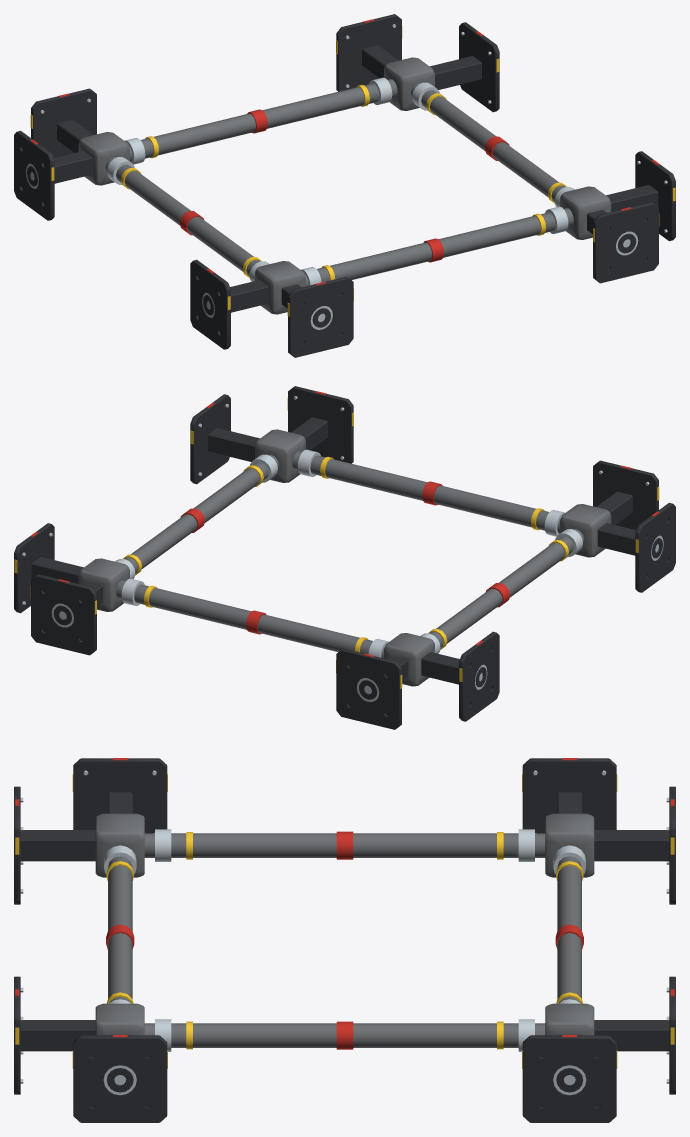
File: R4C_ROD_FRAME.glb
The picture shows the model from 3 angles, top to bottom: view 1: azimuth 30°, elevation 25°; view 2: azimuth 150°, elevation 25°; view 3: azimuth 270°, elevation 25°; orthographic projection. The views are drawn at different scales.
Visible parts, largest first — view 1: R4C_ROD_FRAME; view 2: R4C_ROD_FRAME; view 3: R4C_ROD_FRAME.
Part boxes in pixels (x1,y1,x2,y2): R4C_ROD_FRAME: [14, 14, 675, 357]; R4C_ROD_FRAME: [14, 386, 675, 729]; R4C_ROD_FRAME: [14, 758, 675, 1122].
Size of the model in its own units: 1.62 by 0.2316 by 1.62.
